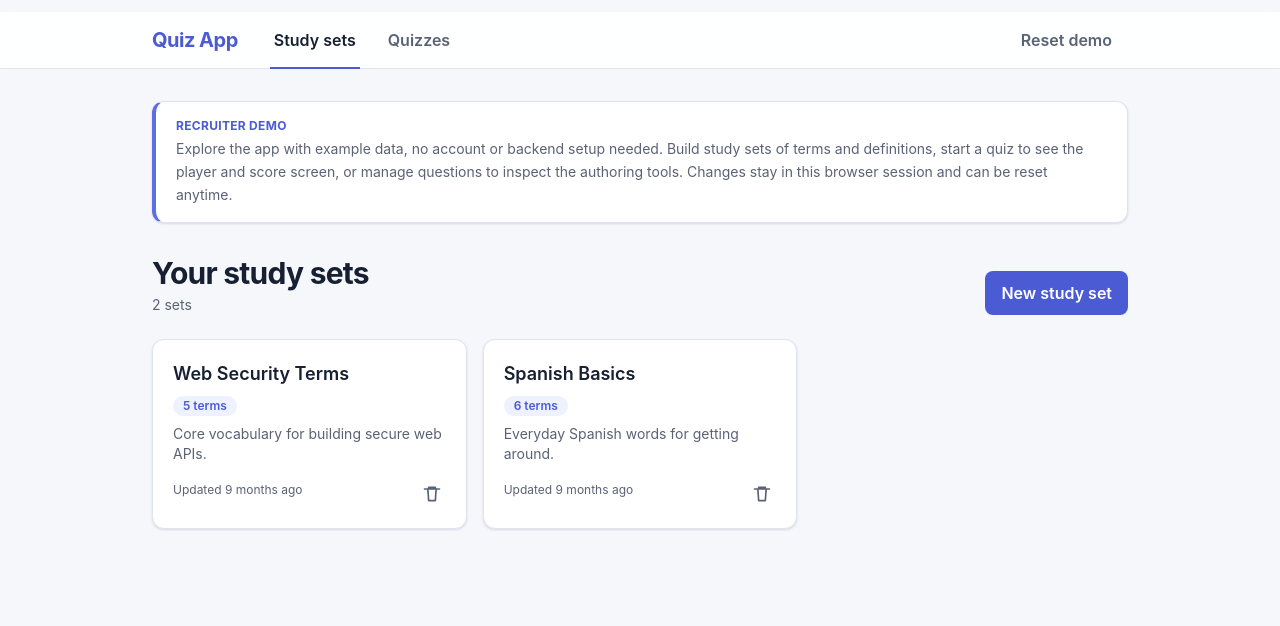
HomePage tabs › starts on study sets and switches between the two views
Expected: the button "Spanish Basics" is shown, x1=504 y1=360 x2=636 y2=388
Expected: the heading "Available Quizzes" is not shown
What coordinates should you click on to do the following:
click the button "Quizzes"
I would click on:
 (419, 40)
Its box is x1=384 y1=12 x2=454 y2=68.
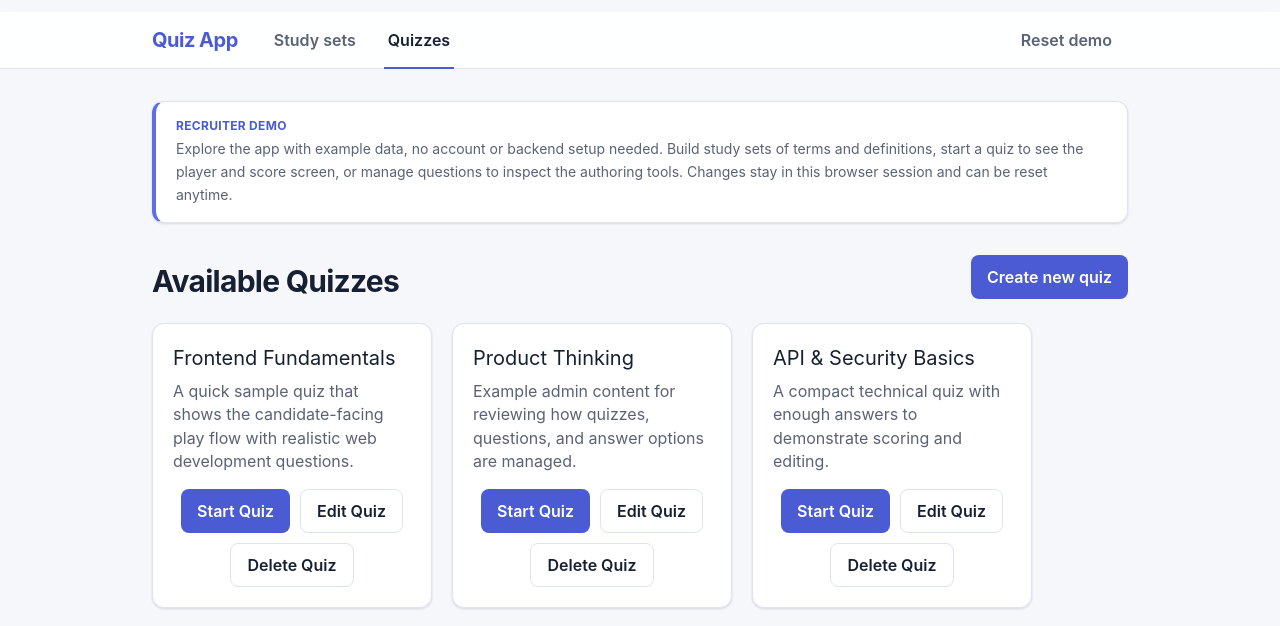
Now the heading "Available Quizzes" is shown, box x1=152 y1=263 x2=399 y2=299
Now the heading "Your study sets" is gone
